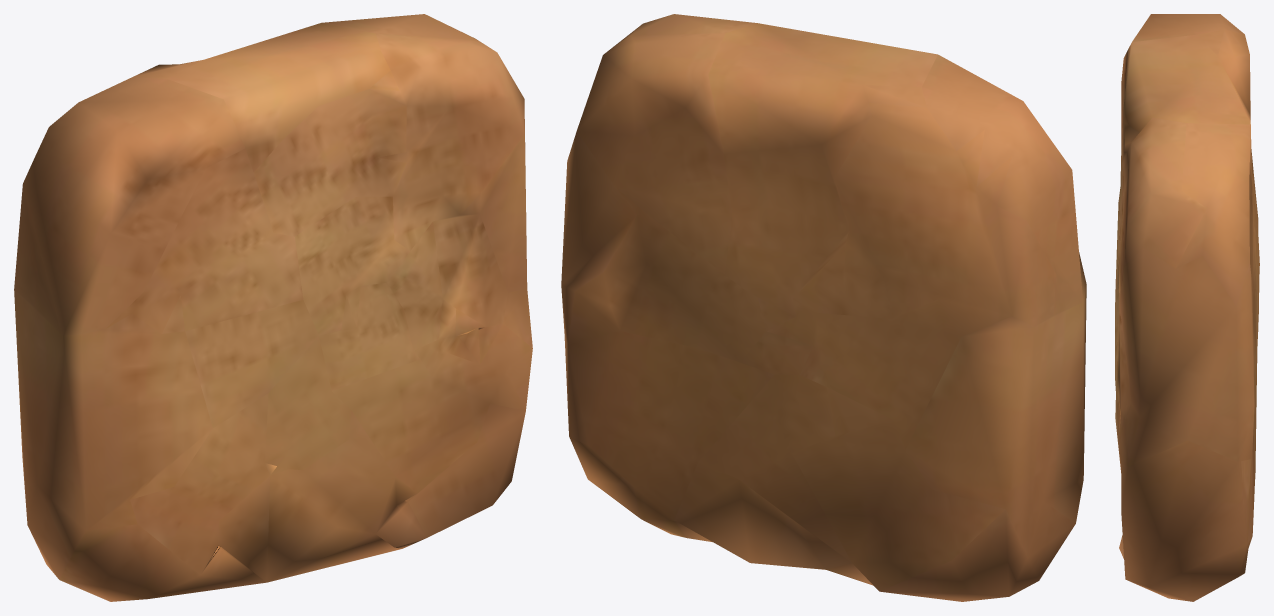
The model's file is clay_tablet_lo.glb.
The picture shows the model from 3 angles, left to right: view 1: azimuth 30°, elevation 25°; view 2: azimuth 150°, elevation 25°; view 3: azimuth 270°, elevation 25°; orthographic projection. The views are drawn at different scales.
Parts seen in each view (by area): view 1: tripo_node_c706ea5f-cdec-4447-9c4d-cbe2472da5bf; view 2: tripo_node_c706ea5f-cdec-4447-9c4d-cbe2472da5bf; view 3: tripo_node_c706ea5f-cdec-4447-9c4d-cbe2472da5bf.
Part boxes in pixels (left/top/right/bottom): tripo_node_c706ea5f-cdec-4447-9c4d-cbe2472da5bf: left=14, top=14, right=532, bottom=601; tripo_node_c706ea5f-cdec-4447-9c4d-cbe2472da5bf: left=561, top=14, right=1086, bottom=601; tripo_node_c706ea5f-cdec-4447-9c4d-cbe2472da5bf: left=1115, top=14, right=1259, bottom=601.
Size of the model in its own units: 0.9677 by 0.9797 by 0.2857.
1 material, 1 textured.
